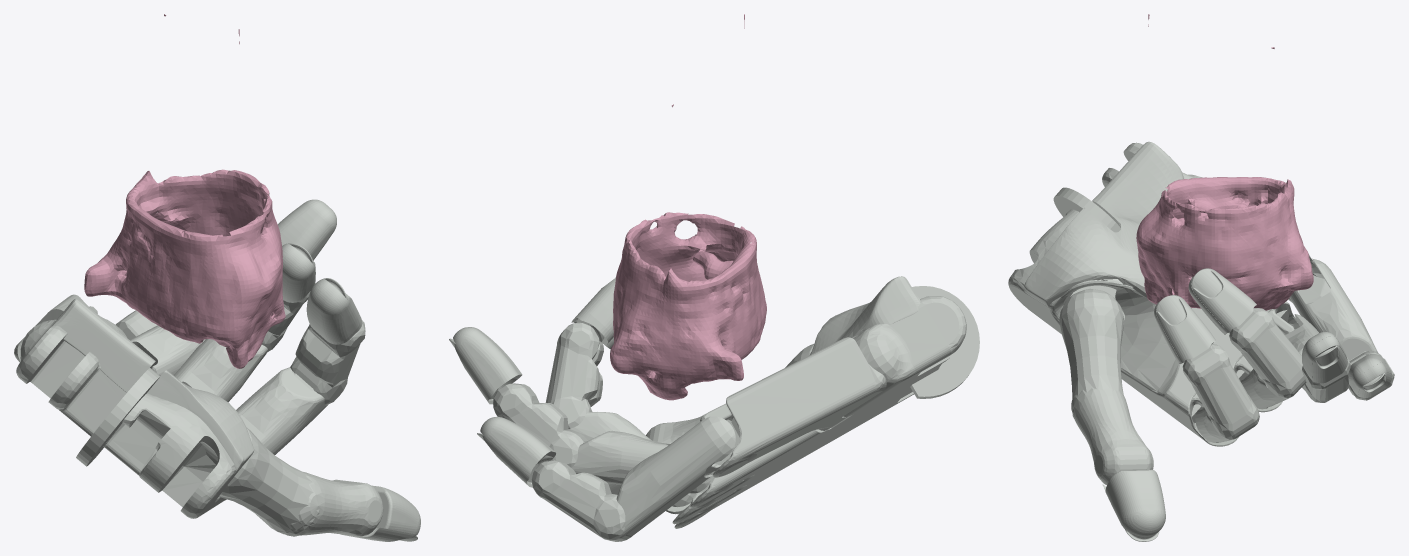
3 renders of one model, left to right at view 1: azimuth 30°, elevation 25°; view 2: azimuth 150°, elevation 25°; view 3: azimuth 270°, elevation 25°, orthographic. The views are drawn at different scales.
Visible parts, largest first — view 1: hand, world; view 2: hand, world; view 3: hand, world.
Part boxes in pixels (x1,y1,x2,y2): hand: [14, 199, 420, 541]; world: [84, 14, 285, 368]; hand: [449, 276, 979, 541]; world: [610, 14, 766, 400]; hand: [1008, 141, 1394, 541]; world: [1136, 14, 1313, 310].
Bounding box in the file's own units: 0.1636 × 0.2031 × 0.1542.
